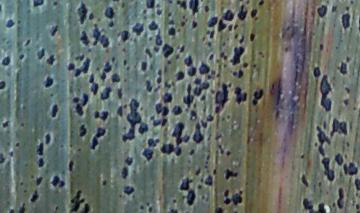tarspot: (120, 99, 141, 142), (320, 74, 332, 112), (91, 23, 109, 48), (316, 125, 330, 156), (172, 121, 190, 144), (216, 83, 228, 115), (322, 157, 336, 182), (331, 117, 347, 137), (70, 191, 84, 213), (75, 1, 88, 24), (191, 122, 203, 144), (183, 82, 193, 106), (78, 30, 91, 47), (234, 86, 247, 103), (232, 46, 244, 64), (253, 86, 264, 105), (161, 42, 174, 58), (344, 164, 359, 177), (303, 197, 315, 213), (338, 186, 346, 209), (223, 168, 238, 180), (232, 190, 244, 205), (131, 22, 144, 35), (317, 4, 328, 19), (81, 57, 91, 73), (118, 30, 131, 42), (221, 10, 235, 21), (187, 189, 196, 206), (89, 135, 99, 150), (143, 78, 153, 93), (237, 5, 247, 20), (341, 13, 351, 28), (4, 18, 16, 30), (103, 7, 115, 19), (123, 184, 135, 196), (206, 16, 218, 28), (181, 178, 193, 190), (99, 87, 112, 98), (216, 19, 227, 32), (29, 189, 39, 203), (74, 103, 84, 117), (189, 1, 199, 15), (160, 144, 174, 154), (43, 76, 54, 88), (142, 149, 153, 161), (198, 63, 210, 74), (171, 104, 183, 115), (90, 82, 100, 95), (139, 59, 148, 73), (154, 32, 163, 46), (335, 151, 344, 165), (101, 61, 112, 72), (137, 123, 148, 134), (147, 137, 158, 148), (110, 72, 122, 82), (36, 47, 45, 60), (339, 62, 348, 75), (50, 104, 58, 118), (79, 123, 87, 137), (1, 54, 11, 65), (46, 55, 56, 66), (80, 93, 90, 104), (148, 21, 159, 31), (301, 173, 308, 188), (116, 105, 124, 118), (175, 71, 185, 81), (164, 93, 174, 103), (205, 113, 215, 123), (95, 128, 106, 137), (100, 110, 109, 121), (212, 132, 223, 141), (37, 142, 44, 156), (68, 159, 75, 173), (50, 24, 58, 36), (51, 175, 59, 187), (184, 55, 192, 67), (82, 203, 91, 213), (144, 48, 153, 58), (166, 27, 176, 36), (177, 1, 187, 10), (187, 67, 196, 77), (37, 157, 45, 168), (87, 72, 95, 83), (116, 88, 124, 99), (44, 133, 51, 145), (36, 175, 43, 187), (121, 167, 128, 179), (155, 102, 162, 114), (1, 120, 10, 129), (73, 68, 82, 77), (204, 176, 213, 185), (23, 38, 31, 48), (194, 86, 202, 96), (189, 110, 197, 120), (249, 8, 257, 18), (317, 42, 325, 52), (33, 1, 44, 8), (19, 202, 26, 213), (162, 107, 169, 118), (318, 202, 325, 213), (87, 11, 95, 20), (193, 77, 202, 85), (200, 119, 208, 128), (194, 167, 202, 176), (330, 5, 339, 13), (1, 152, 6, 166), (100, 73, 107, 83), (146, 1, 156, 8), (208, 30, 215, 40), (249, 33, 256, 43), (222, 198, 232, 205), (219, 144, 225, 155), (314, 67, 320, 78), (355, 178, 360, 191), (125, 157, 133, 165), (160, 119, 168, 127), (152, 45, 160, 53), (167, 19, 175, 27), (177, 44, 185, 52), (174, 147, 182, 155), (222, 189, 230, 197), (71, 97, 80, 104), (153, 120, 162, 127), (201, 82, 210, 89), (1, 80, 7, 90), (74, 55, 84, 61), (191, 19, 197, 29), (17, 52, 24, 60), (13, 141, 21, 148), (67, 63, 75, 70), (220, 51, 227, 59), (188, 148, 195, 156), (345, 55, 352, 63), (344, 86, 351, 94), (59, 179, 65, 188), (156, 76, 162, 85), (237, 70, 243, 79), (239, 35, 245, 44), (343, 98, 349, 107), (107, 21, 114, 28), (18, 121, 25, 128), (156, 9, 163, 16), (207, 53, 214, 60), (164, 82, 171, 89), (101, 179, 107, 187), (93, 110, 99, 118), (149, 115, 157, 121), (204, 5, 210, 13), (201, 94, 207, 102), (345, 140, 351, 148), (122, 58, 127, 67), (228, 23, 233, 32), (110, 56, 116, 63), (147, 206, 153, 213), (206, 41, 212, 48), (231, 71, 238, 77), (242, 62, 248, 69), (215, 207, 222, 213), (352, 105, 358, 112), (205, 154, 211, 161), (203, 163, 209, 170), (180, 194, 187, 200), (8, 208, 16, 213), (257, 1, 265, 6), (171, 208, 179, 213), (323, 120, 327, 130), (19, 181, 25, 187), (167, 12, 173, 18), (180, 21, 186, 27), (9, 150, 14, 157), (345, 6, 350, 13), (258, 50, 263, 57), (355, 203, 360, 210), (332, 201, 337, 208), (52, 1, 58, 6), (148, 36, 153, 42), (175, 54, 180, 60), (157, 69, 162, 75), (211, 71, 217, 76), (234, 24, 239, 30), (226, 151, 231, 157), (197, 183, 202, 189), (252, 63, 257, 69), (122, 48, 127, 54), (77, 147, 82, 153), (201, 37, 206, 43), (167, 1, 174, 5), (314, 141, 318, 148), (22, 188, 27, 193), (139, 205, 144, 210), (167, 60, 172, 65), (207, 75, 212, 80), (210, 90, 215, 95), (143, 9, 147, 15), (182, 14, 186, 20), (234, 33, 238, 39), (213, 168, 217, 174), (301, 153, 305, 159), (318, 181, 322, 187), (157, 3, 161, 8), (246, 1, 250, 6), (173, 200, 177, 205), (349, 1, 354, 5), (222, 42, 226, 47), (223, 64, 228, 68), (55, 206, 59, 210), (112, 1, 120, 3), (31, 175, 35, 179), (1, 2, 2, 13)
